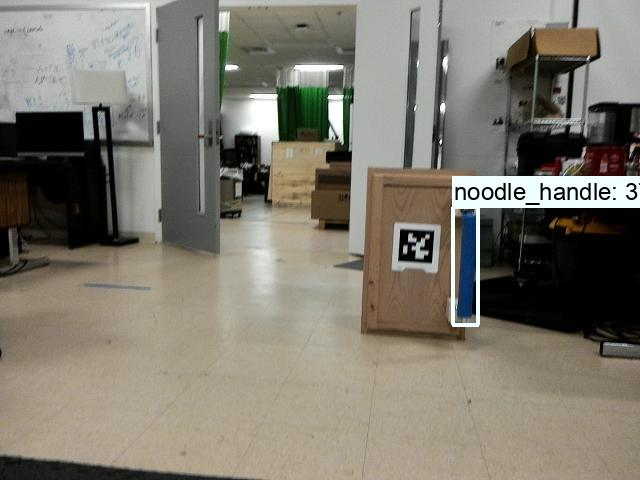noodle_handle: (453, 208, 481, 324)
